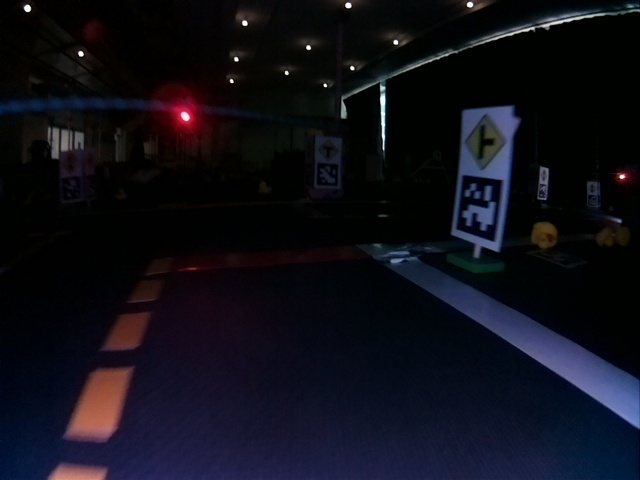Duckie: (531, 221, 558, 248), (597, 227, 612, 246), (616, 226, 629, 246)
Intersection sign: (462, 113, 510, 172), (318, 139, 339, 160)
QR code: (454, 175, 501, 245), (527, 249, 587, 268), (315, 165, 338, 188), (63, 178, 83, 202), (537, 189, 547, 199)
Signal sign: (60, 152, 80, 176)
Traffic light: (175, 104, 193, 128)
